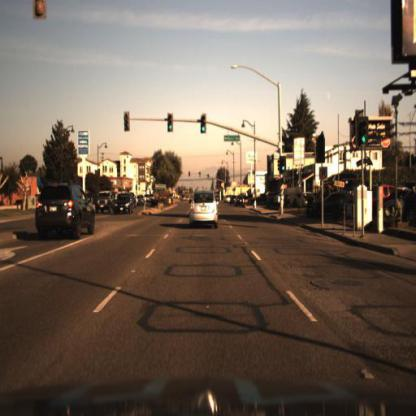car: (34, 182, 97, 240), (188, 189, 220, 230), (318, 190, 358, 218), (113, 194, 135, 219), (98, 186, 112, 220), (276, 191, 292, 208), (235, 195, 247, 209)
trafficLight: (124, 112, 132, 135)
trafficLight-Green: (201, 111, 209, 136), (280, 155, 288, 176), (168, 116, 174, 137)
